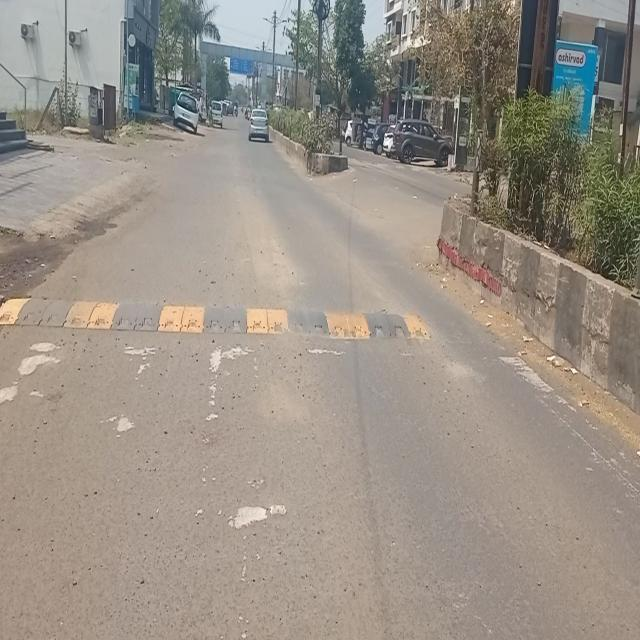Marked Bump: (15, 278, 425, 362)
